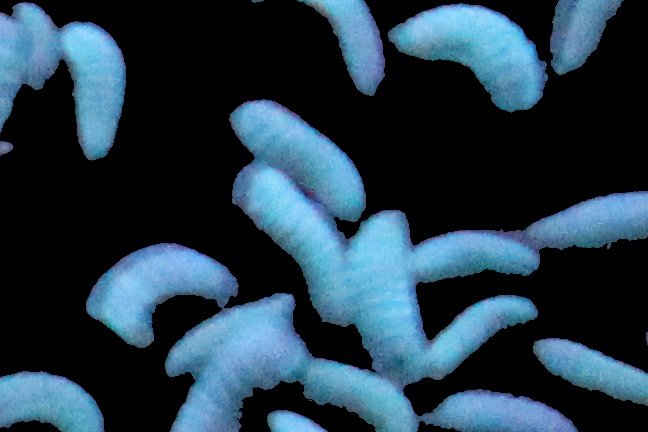larvae: (234, 164, 353, 319), (85, 241, 237, 341), (234, 96, 366, 211), (399, 8, 536, 110), (166, 327, 281, 432), (159, 288, 287, 380), (350, 210, 419, 376), (421, 298, 538, 375), (60, 20, 125, 155), (521, 189, 648, 256), (300, 359, 417, 430), (536, 334, 648, 405), (403, 227, 538, 279), (1, 364, 104, 432), (431, 385, 579, 432), (311, 1, 382, 90), (553, 1, 632, 57), (16, 10, 61, 88), (1, 36, 18, 173)
